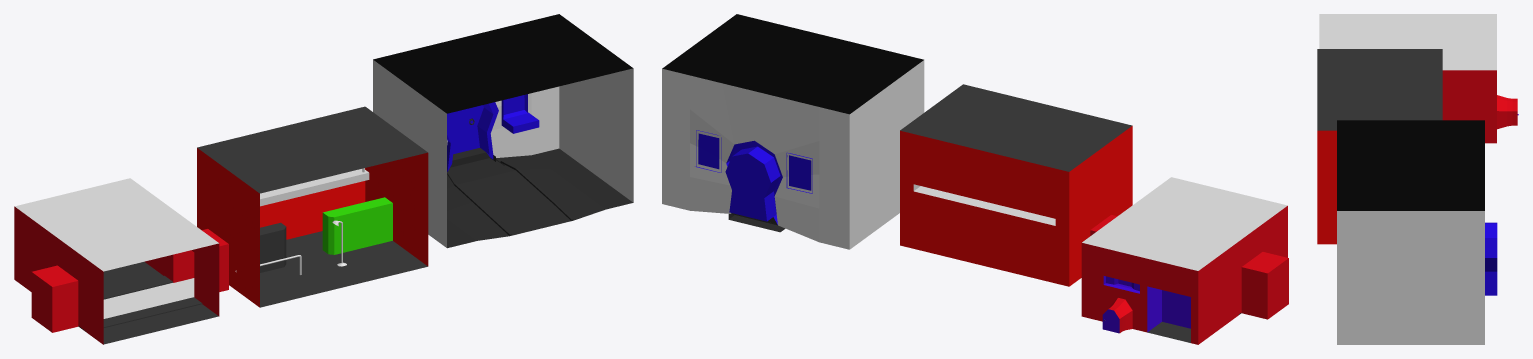
Rendered from VV1_Test_Sans_ToitV2.fbx.
The picture shows the model from 3 angles, left to right: view 1: azimuth 30°, elevation 25°; view 2: azimuth 150°, elevation 25°; view 3: azimuth 270°, elevation 25°; orthographic projection.
Parts seen in each view (by area): view 1: VV3, VV2, VV1, VV3_toit, VV2_toit, VV1_Toit, VV2_Mure2, VV2_Mure1; view 2: VV3, VV2, VV1, VV3_toit, VV2_toit, VV1_Toit; view 3: VV3, VV3_toit, VV2_toit, VV1_Toit, VV1, VV2.
Part boxes in pixels (x1=…): VV3: x1=373, y1=60, x2=633, y2=248; VV2: x1=197, y1=148, x2=428, y2=307; VV1: x1=14, y1=206, x2=228, y2=344; VV3_toit: x1=373, y1=14, x2=632, y2=113; VV2_toit: x1=197, y1=106, x2=427, y2=193; VV1_Toit: x1=15, y1=178, x2=218, y2=271; VV2_Mure2: x1=322, y1=197, x2=392, y2=254; VV2_Mure1: x1=260, y1=222, x2=286, y2=272; VV3: x1=662, y1=60, x2=924, y2=249; VV2: x1=900, y1=126, x2=1132, y2=286; VV1: x1=1081, y1=206, x2=1288, y2=344; VV3_toit: x1=662, y1=14, x2=923, y2=114; VV2_toit: x1=900, y1=84, x2=1132, y2=171; VV1_Toit: x1=1082, y1=177, x2=1287, y2=270; VV3: x1=1337, y1=211, x2=1497, y2=344; VV3_toit: x1=1337, y1=120, x2=1484, y2=210; VV2_toit: x1=1317, y1=49, x2=1442, y2=130; VV1_Toit: x1=1319, y1=14, x2=1496, y2=70; VV1: x1=1442, y1=70, x2=1518, y2=143; VV2: x1=1317, y1=130, x2=1336, y2=244.
Bounding box in the file's own units: 8135 × 1909 × 2521.
